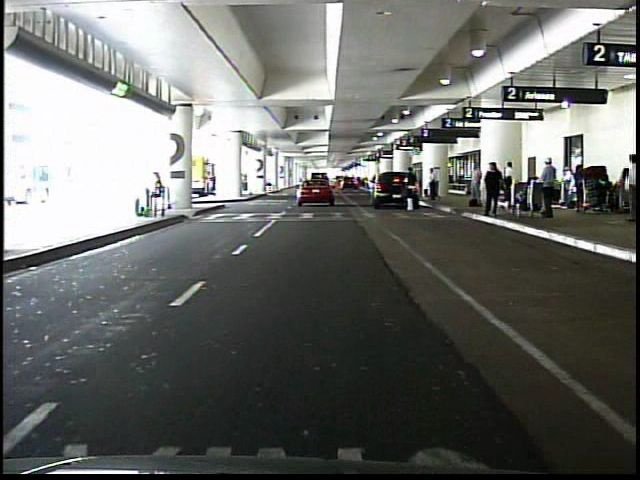person: (537, 156, 556, 219), (620, 155, 636, 225), (146, 171, 167, 220), (483, 161, 502, 215), (573, 164, 587, 213), (405, 167, 418, 213), (559, 168, 574, 207), (502, 160, 514, 200), (428, 168, 440, 204)
